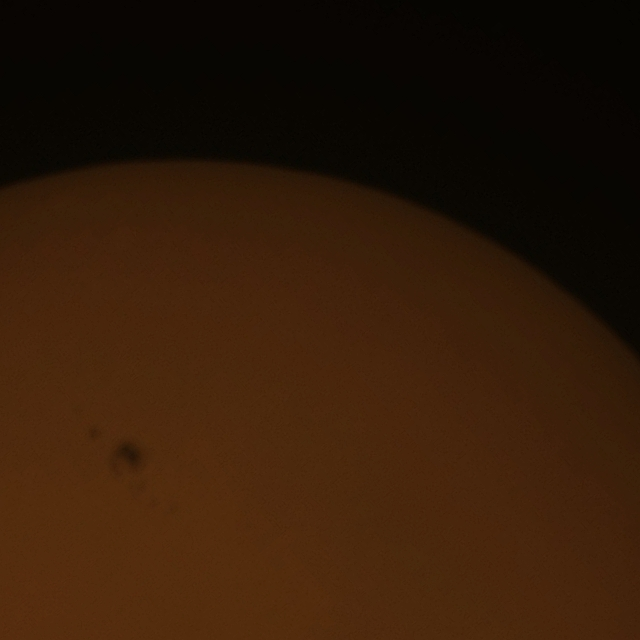sunspot: (112, 434, 160, 482), (88, 421, 115, 448)
